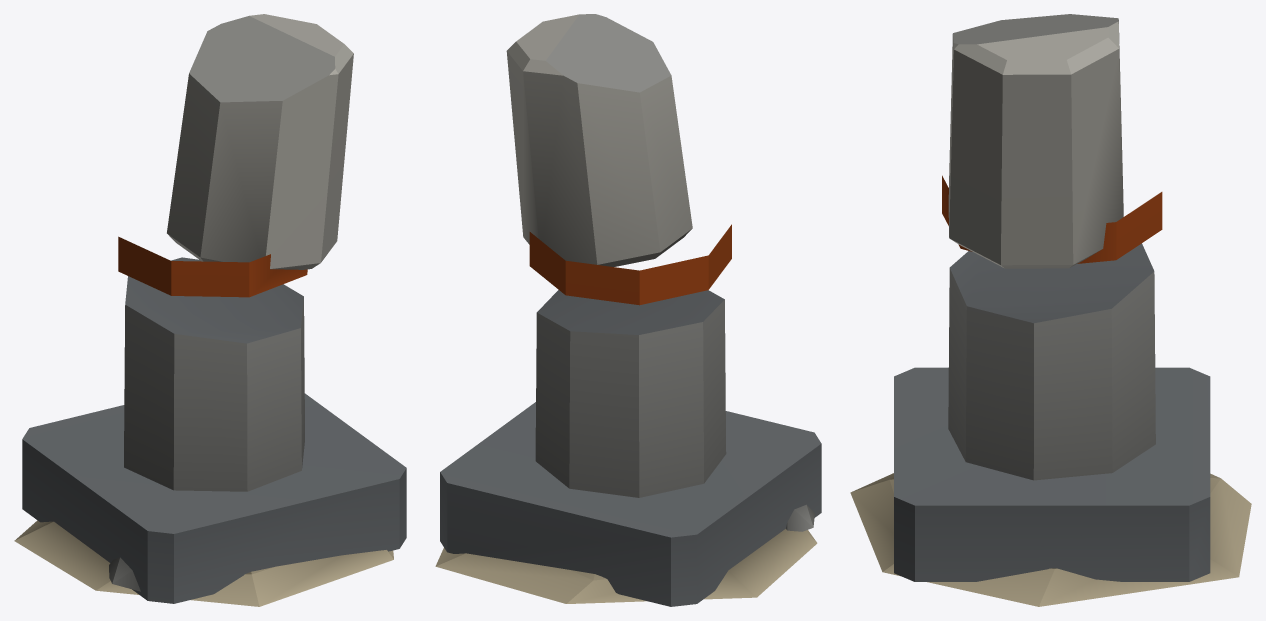
Rendered from ruin_column_b.glb.
3 views of the same model, side by side, from view 1: azimuth 30°, elevation 25°; view 2: azimuth 150°, elevation 25°; view 3: azimuth 270°, elevation 25° (orthographic). The views are drawn at different scales.
Parts seen in each view (by area): view 1: body; view 2: body; view 3: body.
Boxes of the visible parts, x1,y1,x2,y2 form: body: (14,14,406,606); body: (435,14,821,606); body: (850,14,1251,606).
Size of the model in its own units: 0.7919 by 1.1 by 0.7614.
